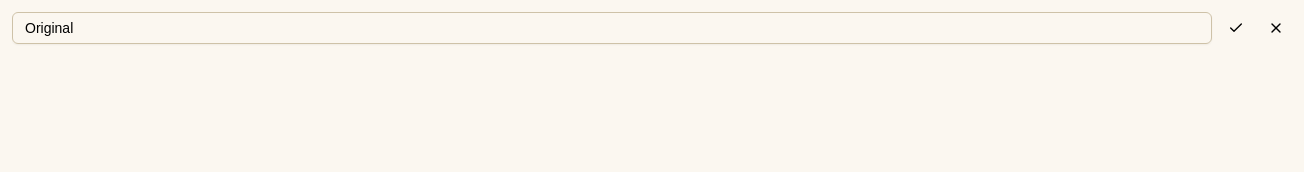
EditableField › cancels edit mode without saving
The width and height of the screenshot is (1304, 172).
Earlier steps of the test are not shown.
Step 1. Replace the text in the field with "Changed" → {"x": 612, "y": 28}, box x1=12 y1=12 x2=1212 y2=44
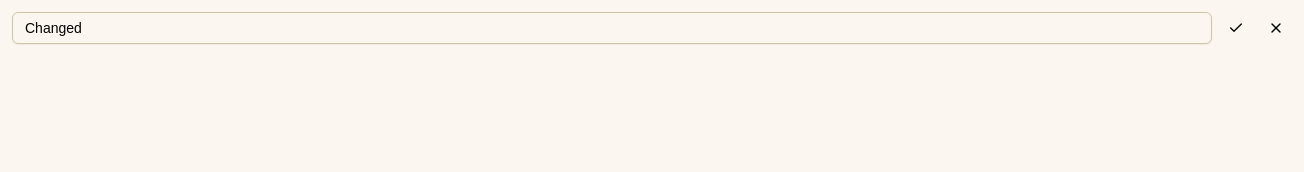
Step 2. Click the 2nd button → {"x": 1276, "y": 28}, box x1=1260 y1=12 x2=1292 y2=44
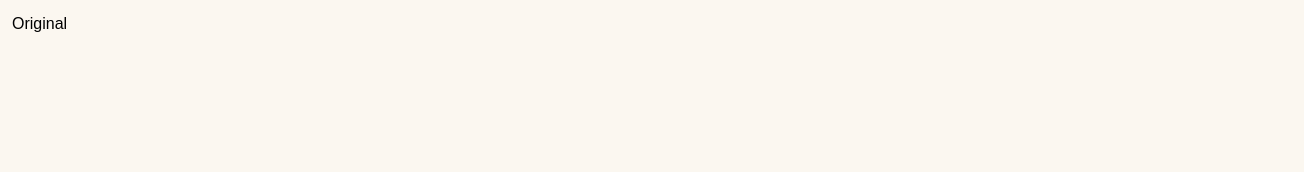
Check: the text "Original" is shown, box x1=12 y1=12 x2=67 y2=36
